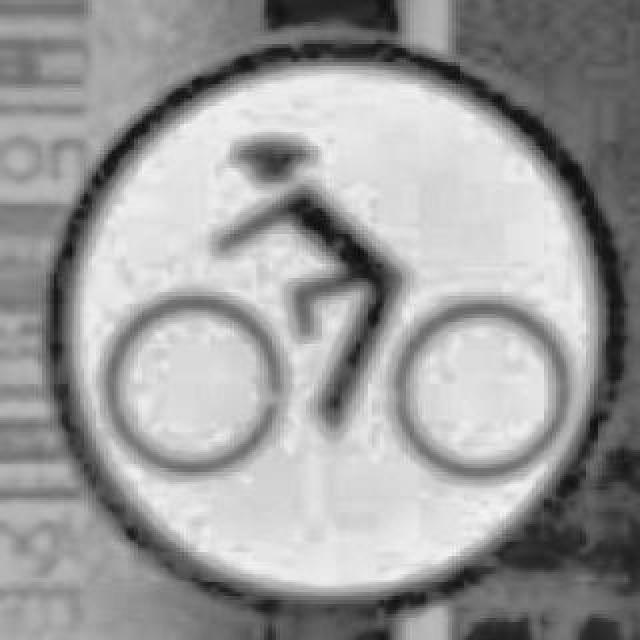bike lane: (42, 26, 622, 606)
